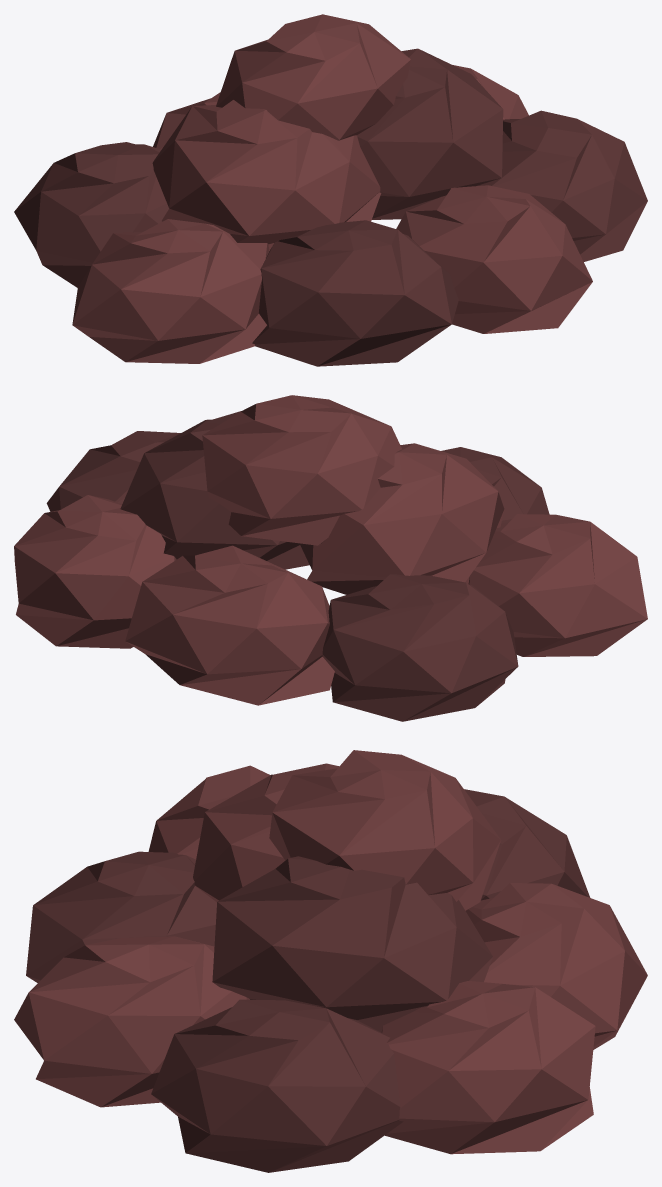
Rendered from item_meat_small_c.obj.
The picture shows the model from 3 angles, top to bottom: view 1: azimuth 30°, elevation 25°; view 2: azimuth 150°, elevation 25°; view 3: azimuth 270°, elevation 25°; orthographic projection. The views are drawn at different scales.
Bounding box in the file's own units: 0.8996 × 0.3168 × 0.7208.
